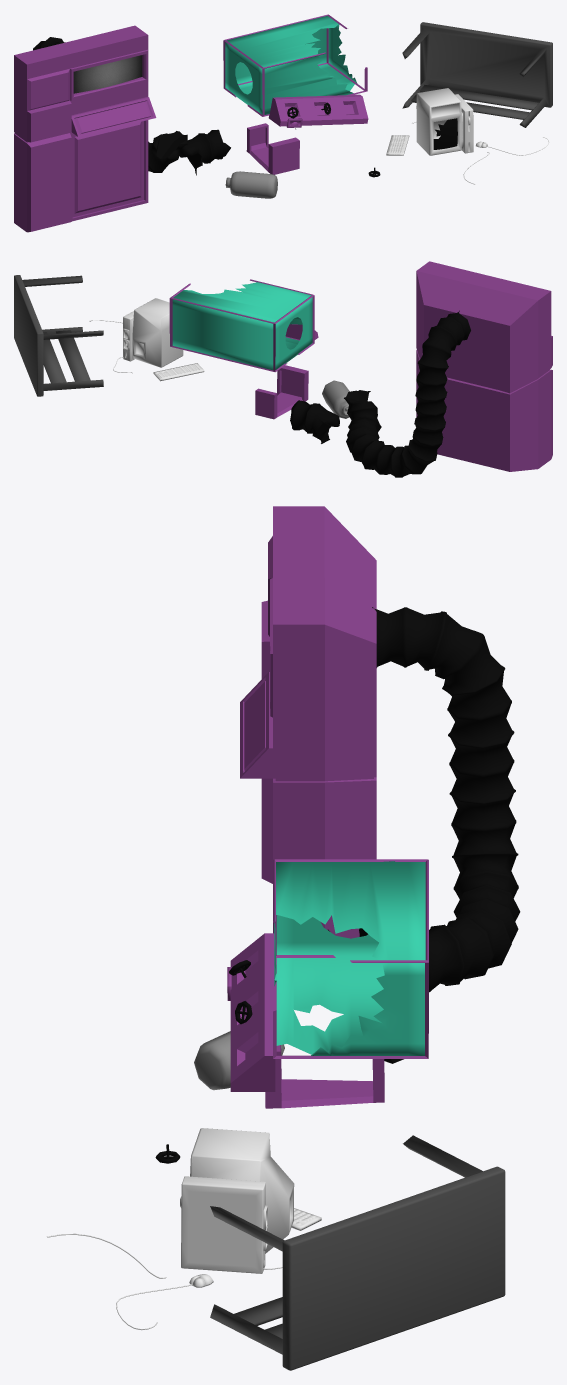
File: SM_BrokenScene.fbx
3 renders of one model, top to bottom at view 1: azimuth 30°, elevation 25°; view 2: azimuth 150°, elevation 25°; view 3: azimuth 270°, elevation 25°, orthographic. The views are drawn at different scales.
Parts seen in each view (by area): view 1: SM_PC_2.004; view 2: SM_PC_2.004; view 3: SM_PC_2.004.
Boxes of the visible parts, <box> form: SM_PC_2.004: <box>14,14,552,232</box>; SM_PC_2.004: <box>14,261,552,477</box>; SM_PC_2.004: <box>47,506,520,1370</box>.
Bounding box in the file's own units: 875 × 283 × 338.
